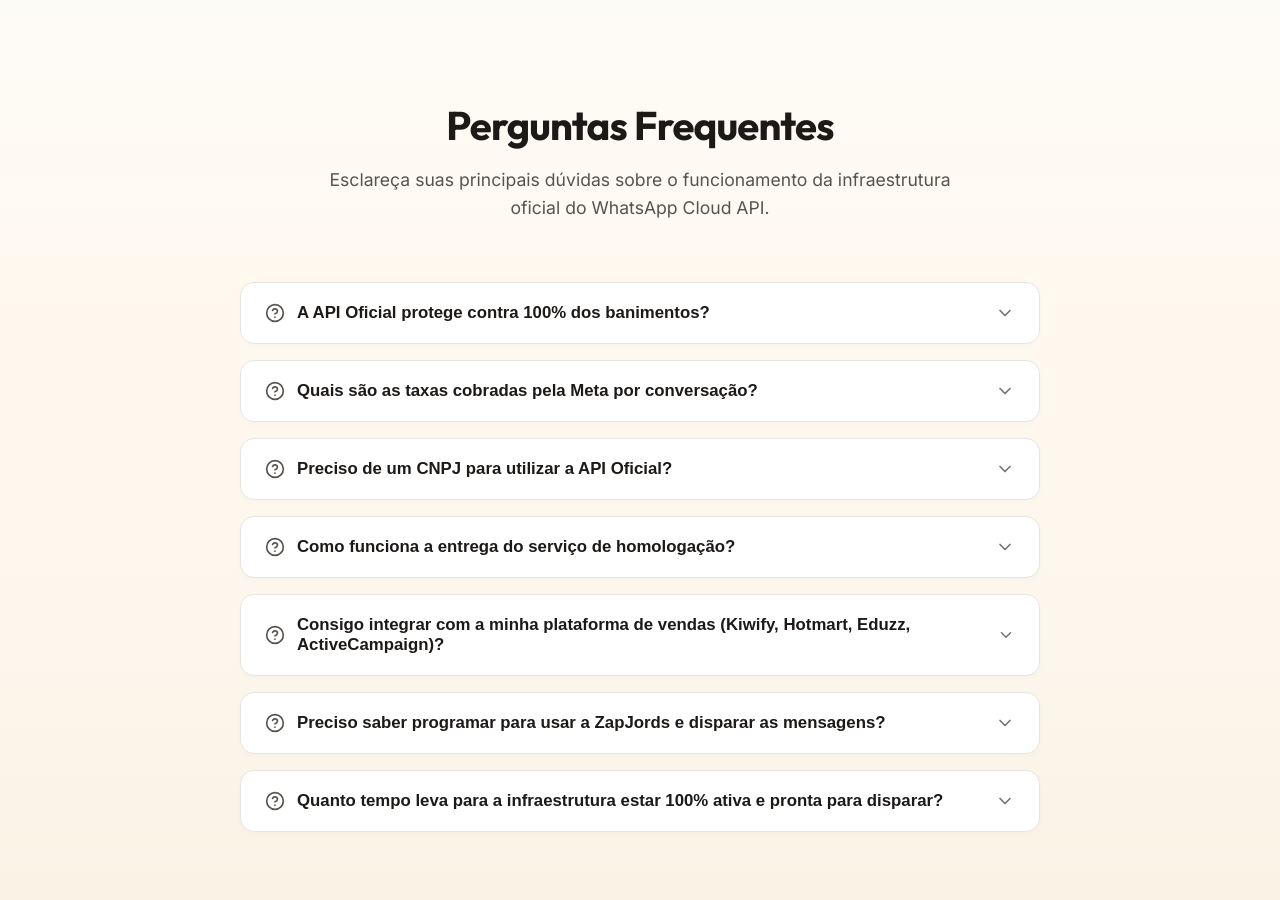
Componente Faq › deve conter a pergunta sobre CNPJ esclarecendo que não é obrigatório para iniciar mas amplia limites de disparos
The image size is (1280, 900).
Expected: the text "Preciso de um CNPJ para utilizar a API Oficial?" is shown, [297,459,672,479]
# Abre a pergunta sobre CNPJ (índice 2)
Click the button with test id "faq-btn-2". click: (640, 469)
box: [241,439,1039,499]
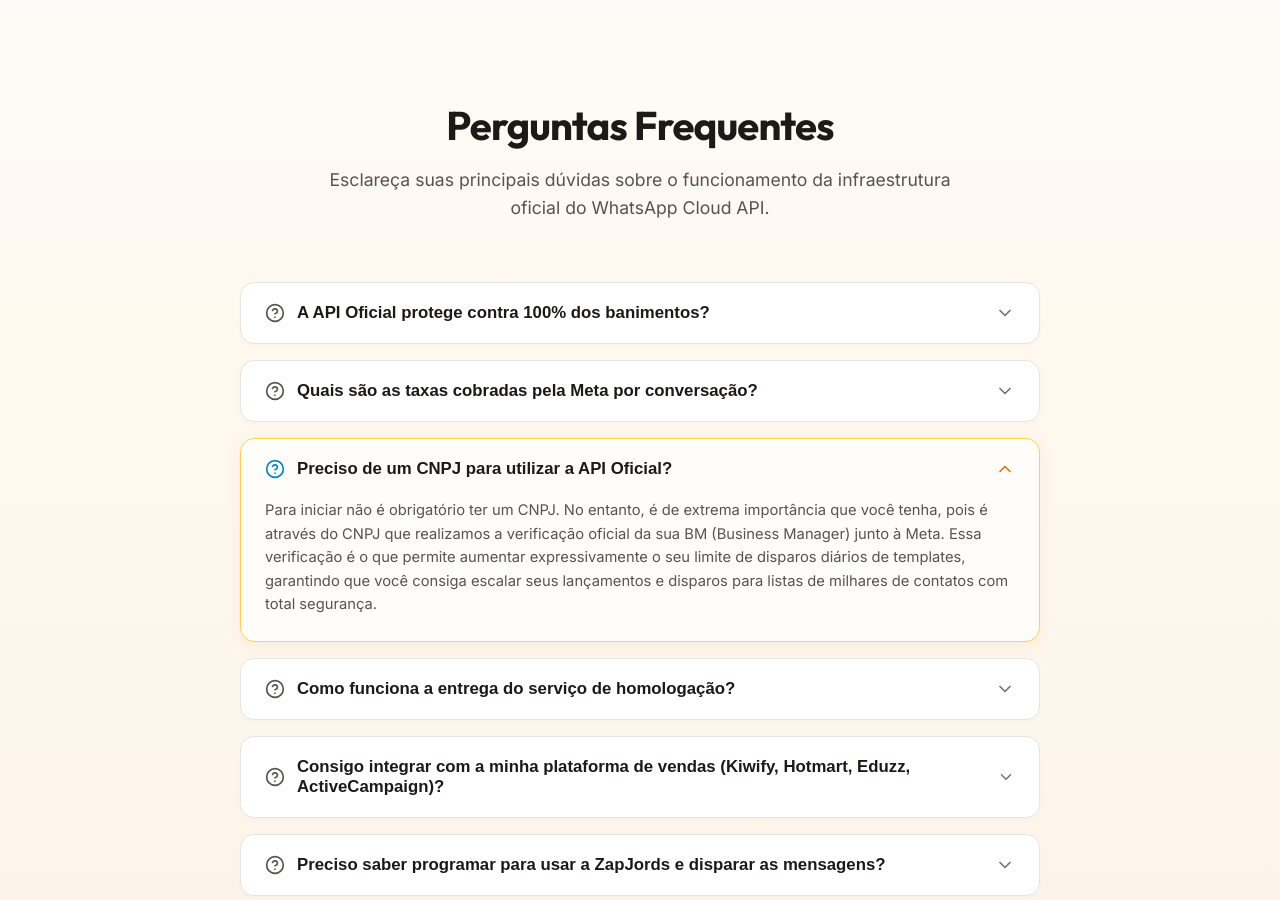
Now the text "verificação oficial da sua BM" is shown, box [265,501,1008,614]
